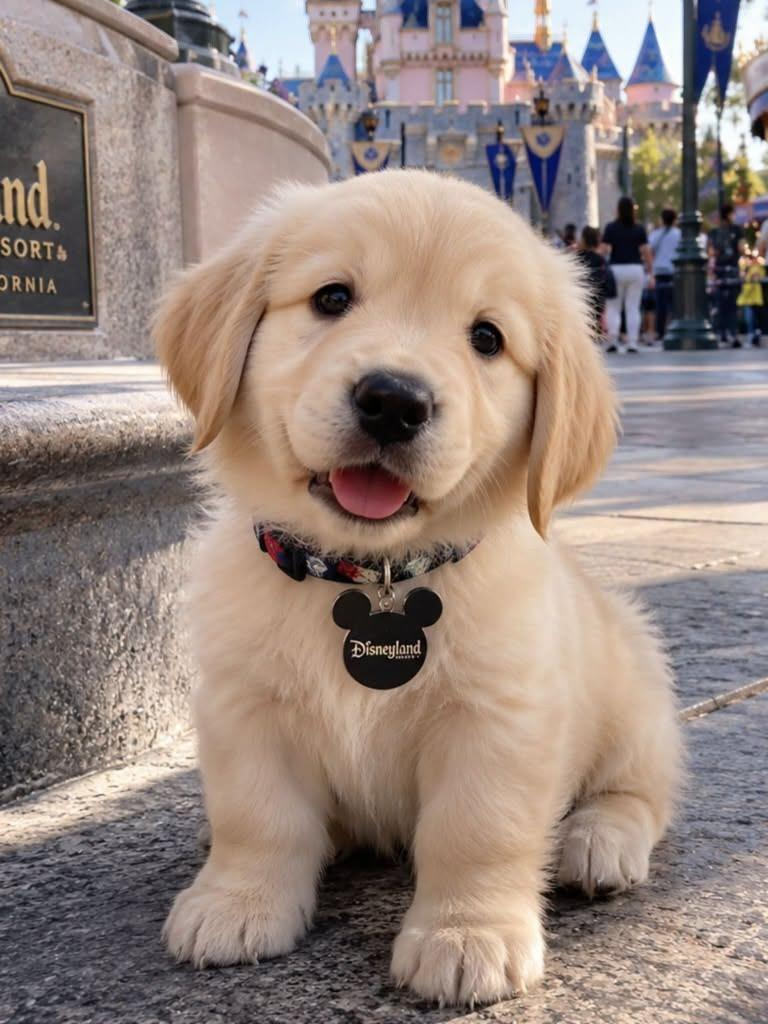puppy-dog: (146, 166, 694, 1005)
